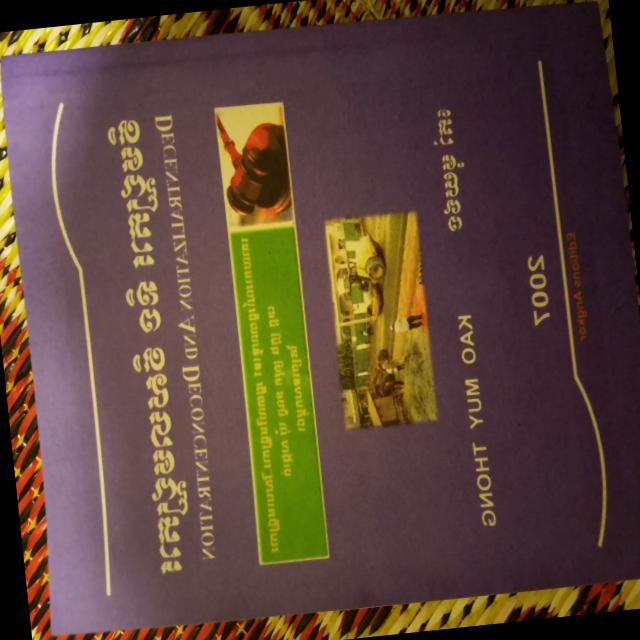1: (237, 234, 285, 556), (415, 95, 478, 239)
2: (100, 110, 198, 576)
5: (263, 300, 297, 478)
646: (511, 244, 567, 342)
Yolov11kh: (285, 338, 311, 433)
